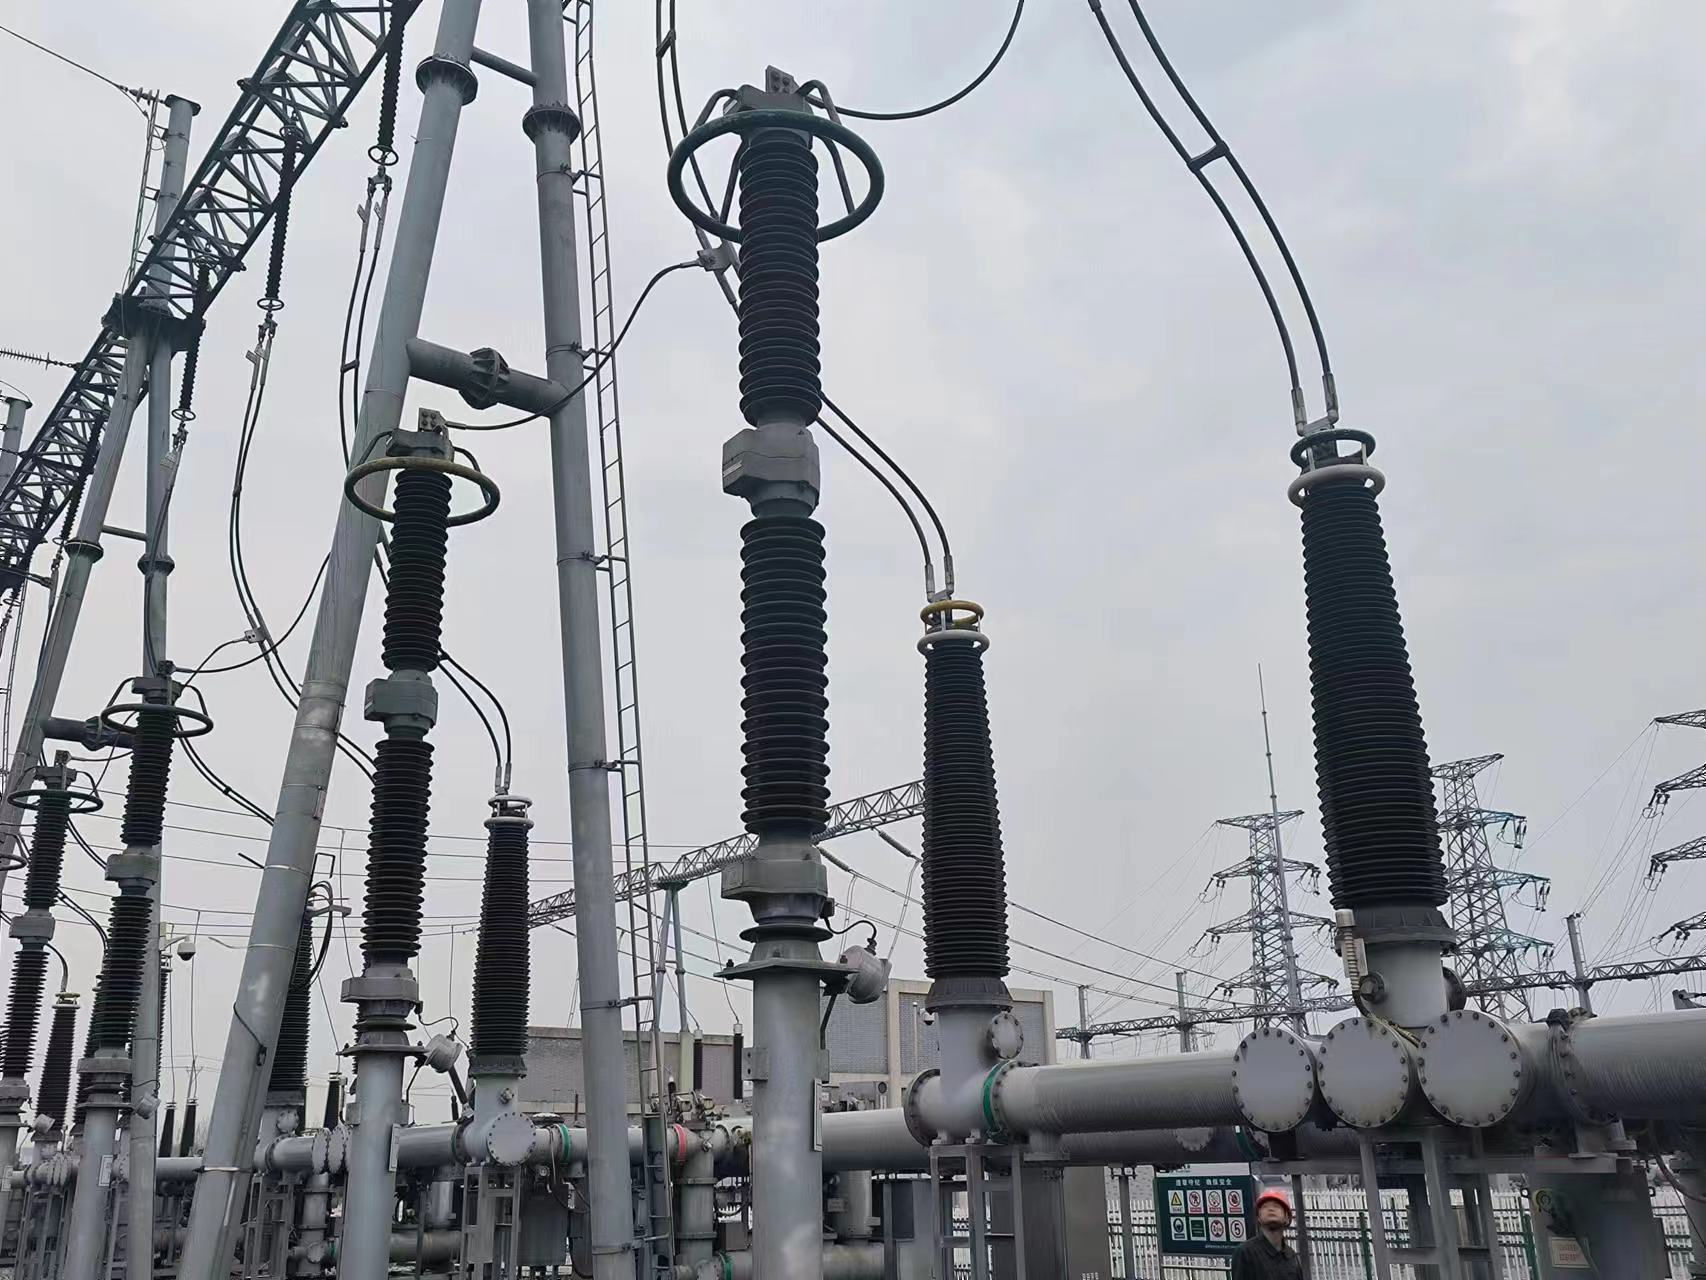Arrester: (661, 66, 889, 929), (343, 411, 501, 990), (75, 659, 216, 1073)
Voltage transformer: (1285, 432, 1456, 947), (913, 600, 1014, 1007), (465, 795, 539, 1072)
